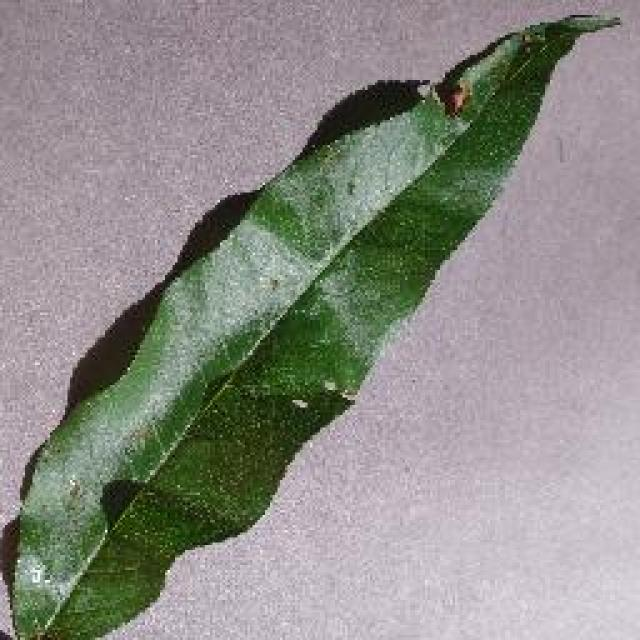Peach_Bacterial_Spot: (185, 60, 553, 337)
